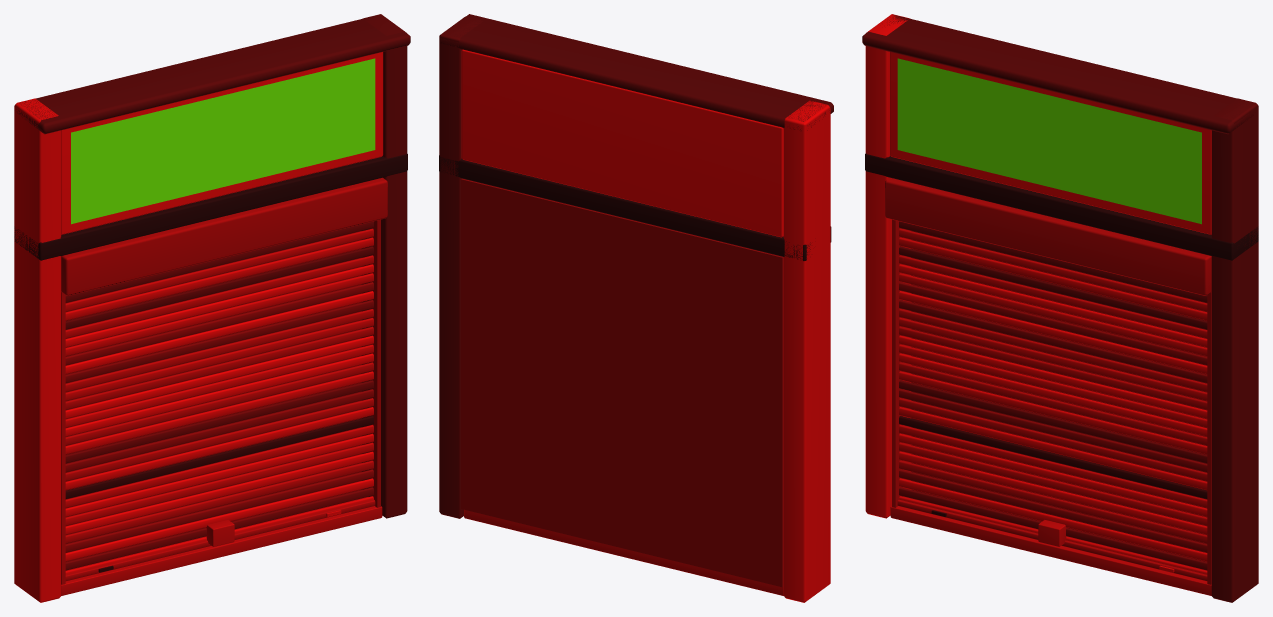
The model's file is shop_shutter_a.glb.
3 views of the same model, side by side, from view 1: azimuth 30°, elevation 25°; view 2: azimuth 150°, elevation 25°; view 3: azimuth 330°, elevation 25° (orthographic).
Parts seen in each view (by area): view 1: shop_shutter_a; view 2: shop_shutter_a; view 3: shop_shutter_a.
Boxes of the visible parts, x1,y1,x2,y2 form: shop_shutter_a: [14, 14, 410, 602]; shop_shutter_a: [439, 14, 833, 602]; shop_shutter_a: [862, 14, 1258, 602].
Size of the model in its own units: 4 by 5 by 0.57.
